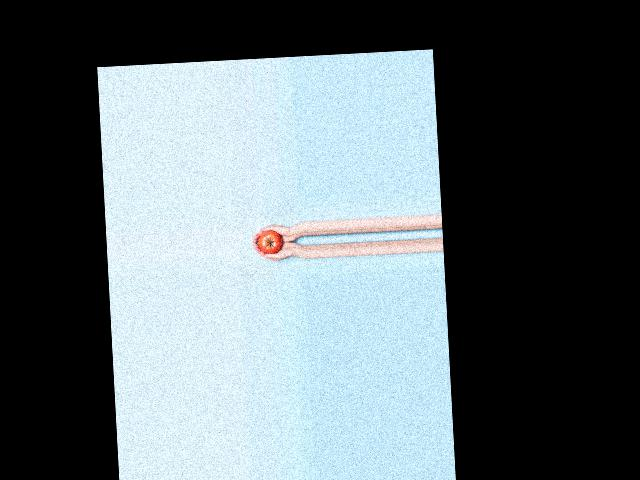tomato: (258, 230, 282, 254)
